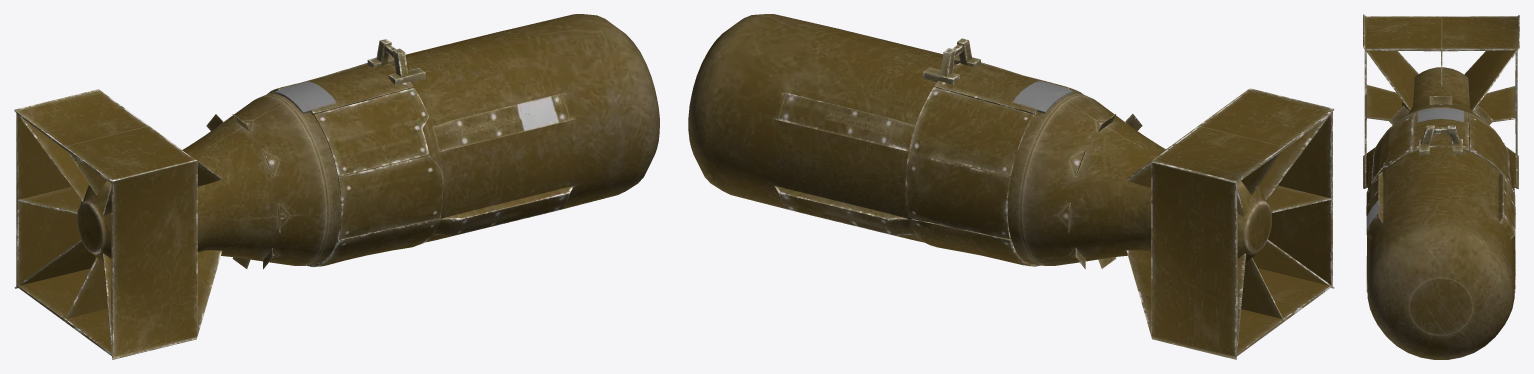
File: little_boy_atomic_bomb.glb
3 renders of one model, left to right at view 1: azimuth 30°, elevation 25°; view 2: azimuth 150°, elevation 25°; view 3: azimuth 270°, elevation 25°, orthographic. The views are drawn at different scales.
Parts seen in each view (by area): view 1: Cube.003_Material_0; view 2: Cube.003_Material_0; view 3: Cube.003_Material_0.
Part boxes in pixels (x1=…): Cube.003_Material_0: x1=14, y1=14, x2=659, y2=359; Cube.003_Material_0: x1=688, y1=14, x2=1334, y2=359; Cube.003_Material_0: x1=1363, y1=14, x2=1519, y2=359.
Size of the model in its own units: 7 by 2.31 by 2.09.
Materials: 1 (1 with a texture image).
